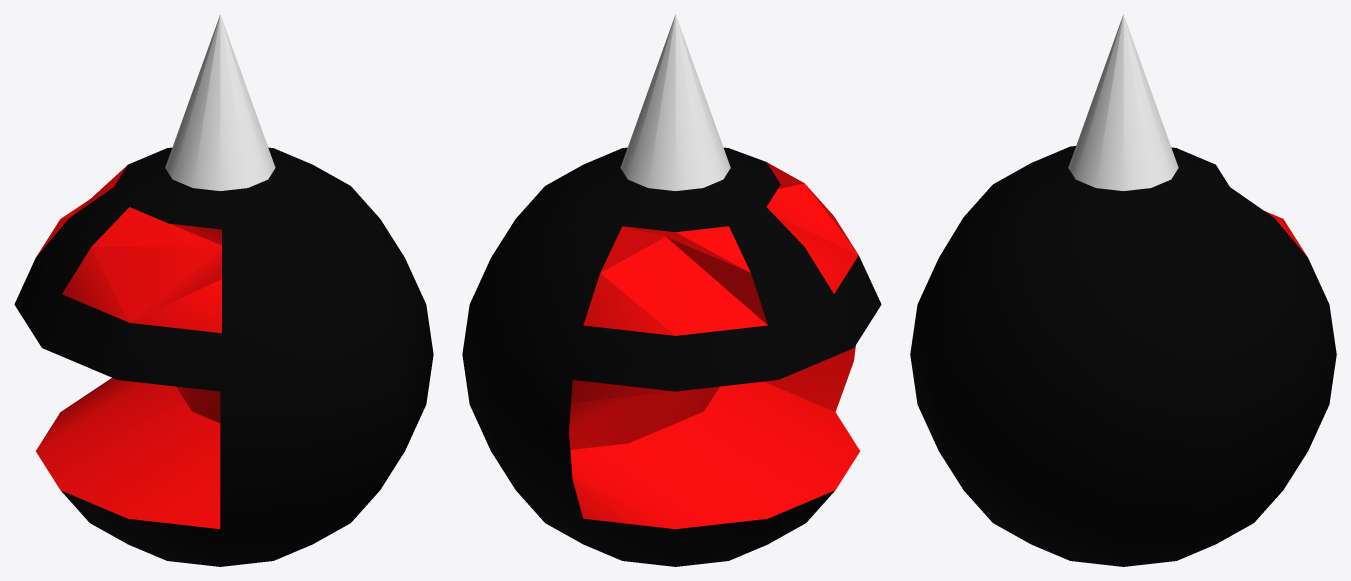
File: duo.obj
3 renders of one model, left to right at view 1: azimuth 30°, elevation 25°; view 2: azimuth 150°, elevation 25°; view 3: azimuth 270°, elevation 25°, orthographic.
Visible parts, largest first — view 1: g0; view 2: g0; view 3: g0.
Boxes of the visible parts, left/top/right/bottom form: g0: left=14, top=14, right=433, bottom=566; g0: left=462, top=14, right=881, bottom=566; g0: left=910, top=14, right=1336, bottom=566.
Bounding box in the file's own units: 98.3 × 138 × 100.
